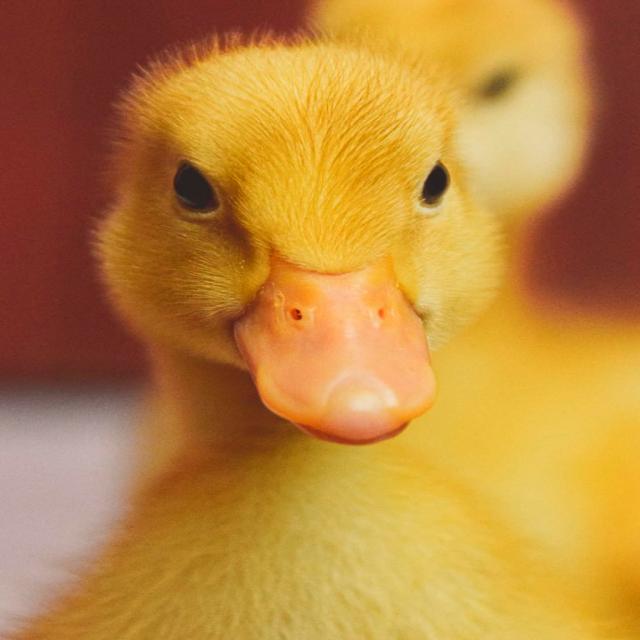duck: (18, 37, 639, 639)
